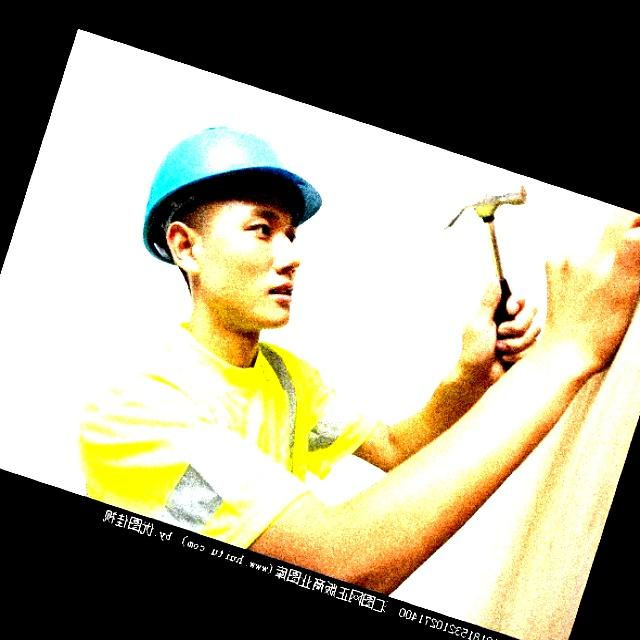Capacete: (143, 127, 321, 262)
